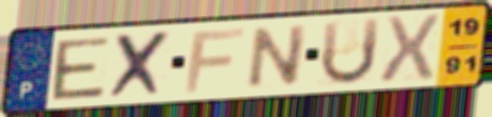E: (51, 34, 113, 102)
F: (182, 26, 248, 96)
N: (243, 22, 312, 92)
U: (317, 15, 383, 88)
X: (106, 28, 177, 101), (376, 13, 443, 87)
